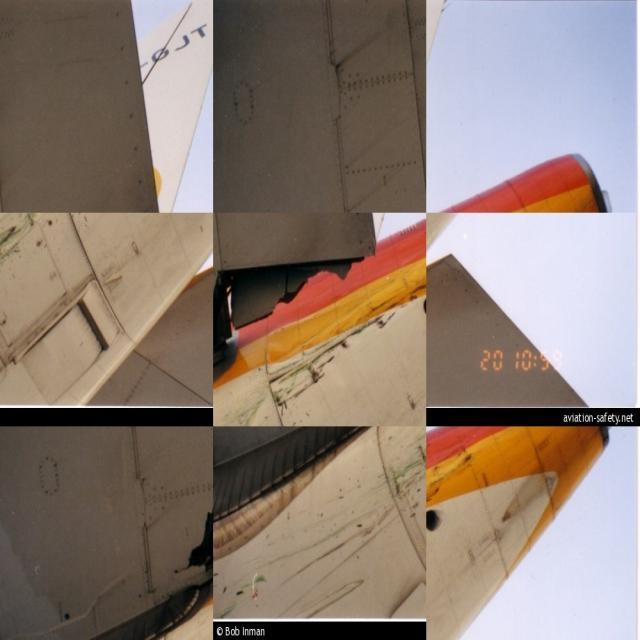crack: (174, 513, 214, 584)
